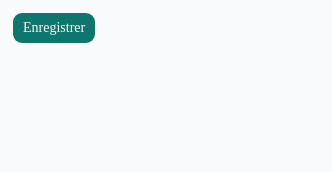
bandeau de confirmation (flash) › ActionForm sans provider garde la confirmation en place
Click the button "Enregistrer" at x=54, y=28, box left=12, top=12, right=96, bottom=44
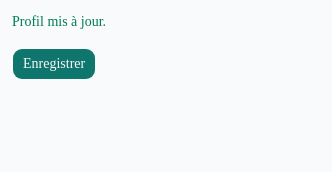
Now the text "Profil mis à jour." is shown, box left=12, top=14, right=106, bottom=29
